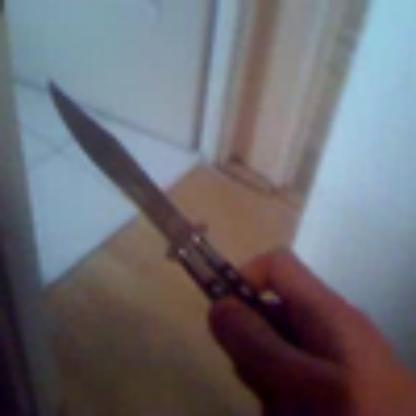knives: (29, 66, 320, 378)
